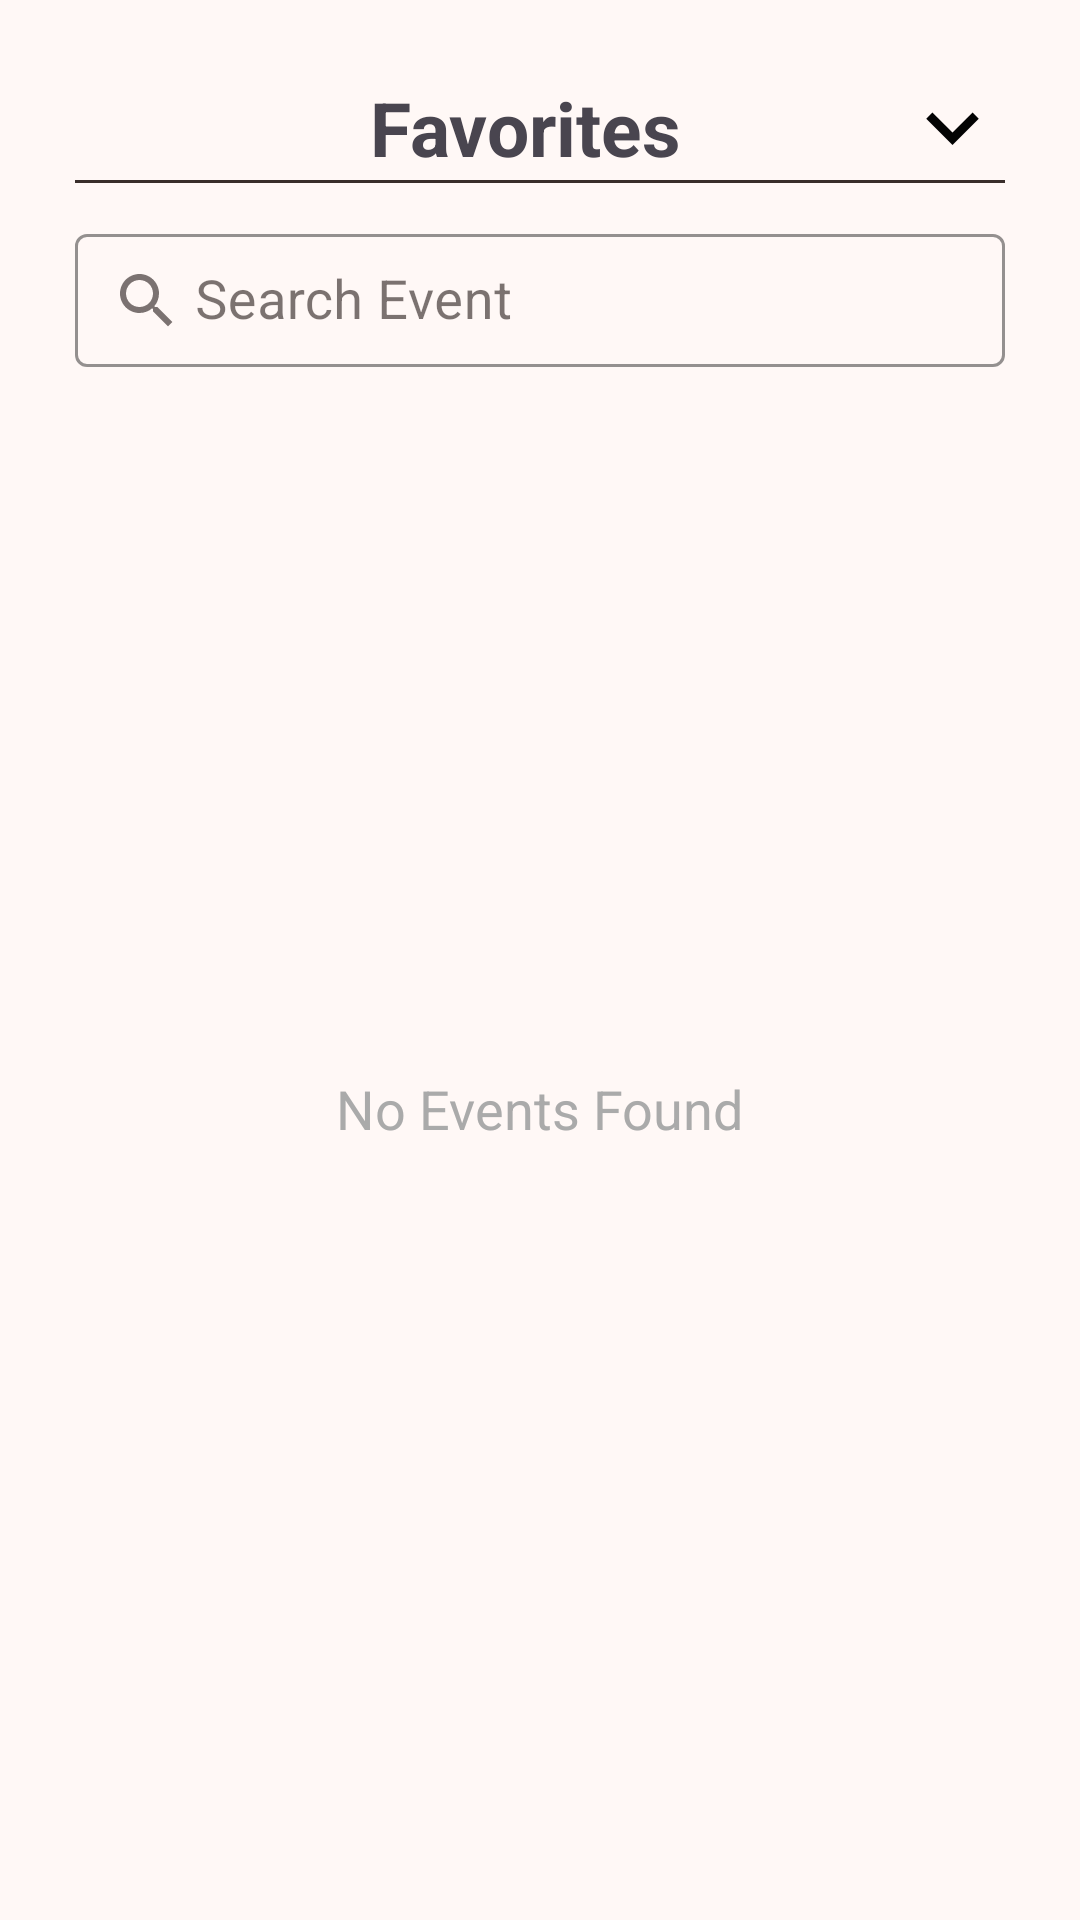

Icon click points for this 1080px x 1920px phone screenshot, format point (x, y):
down: point (952, 128)
